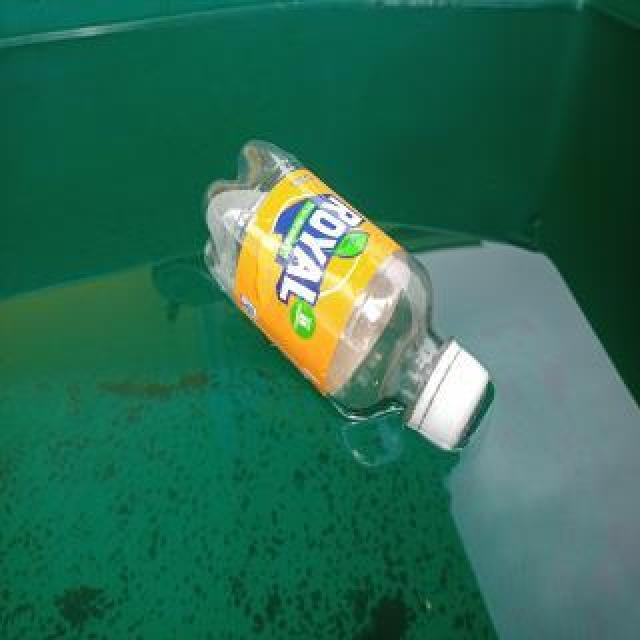bottle: (197, 131, 497, 457)
